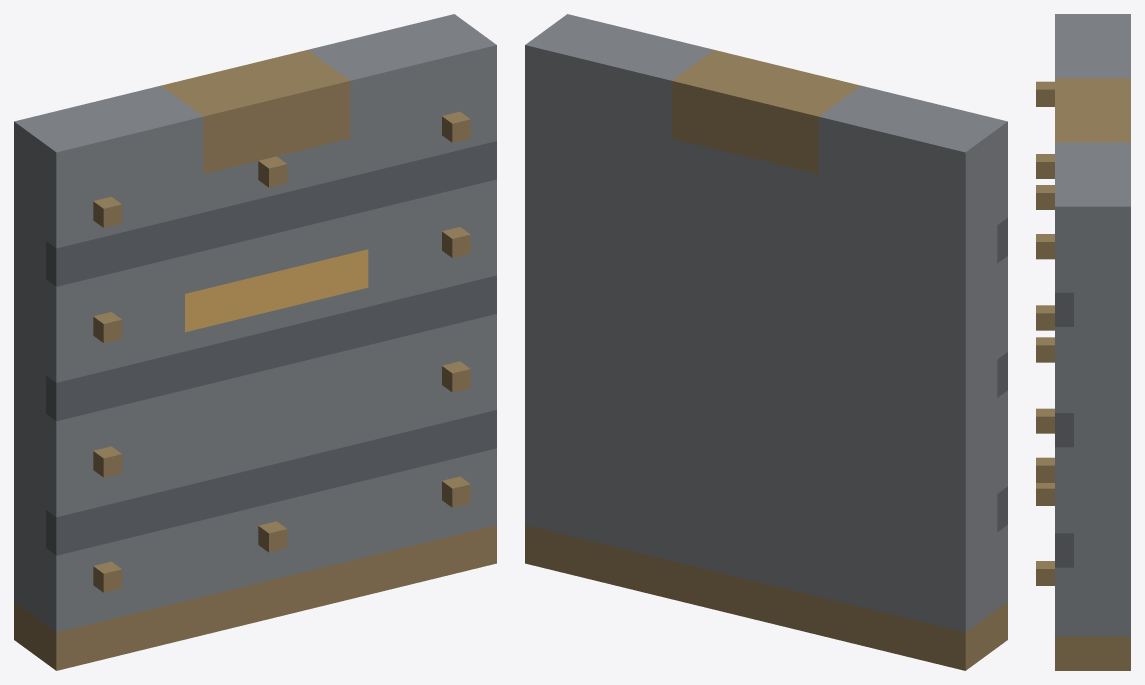
Rendered from door.glb.
The picture shows the model from 3 angles, left to right: view 1: azimuth 30°, elevation 25°; view 2: azimuth 150°, elevation 25°; view 3: azimuth 270°, elevation 25°; orthographic projection. The views are drawn at different scales.
Bounding box in the file's own units: 24 × 27 × 5.
